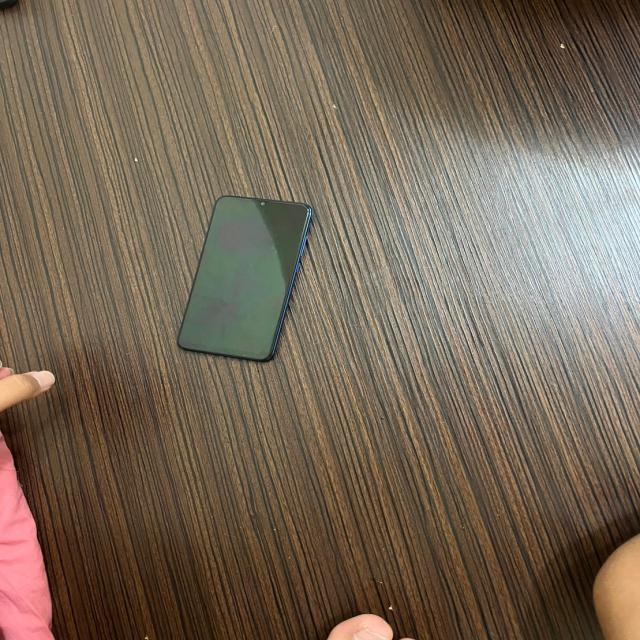Smartphone: (148, 179, 342, 389)
